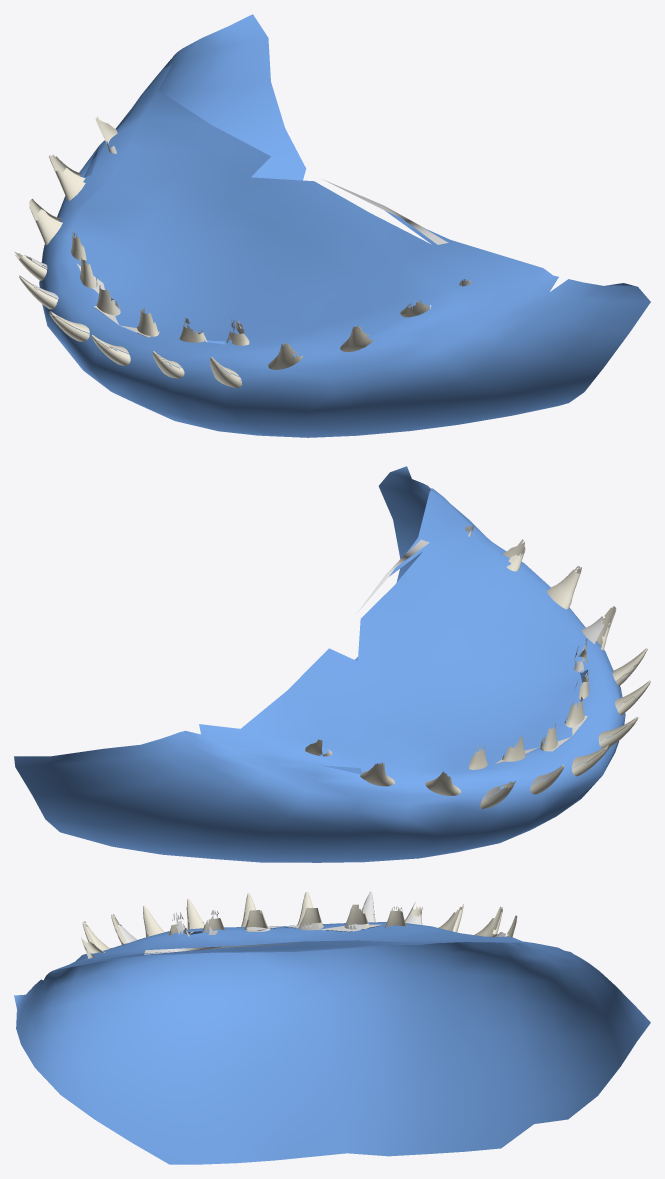
Rendered from mandibula.obj.
3 renders of one model, top to bottom at view 1: azimuth 30°, elevation 25°; view 2: azimuth 150°, elevation 25°; view 3: azimuth 270°, elevation 25°, orthographic. The views are drawn at different scales.
Visible parts, largest first — view 1: shark.001, shark.004; view 2: shark.001, shark.004; view 3: shark.001, shark.004.
Part boxes in pixels (x1=…): shark.001: x1=19, y1=14, x2=650, y2=437; shark.004: x1=14, y1=117, x2=429, y2=387; shark.001: x1=14, y1=466, x2=646, y2=862; shark.004: x1=305, y1=539, x2=650, y2=808; shark.001: x1=14, y1=891, x2=650, y2=1164; shark.004: x1=81, y1=892, x2=517, y2=953.
Bounding box in the file's own units: 2.18 × 1.14 × 3.5.
Materials: 1 (1 with a texture image).
